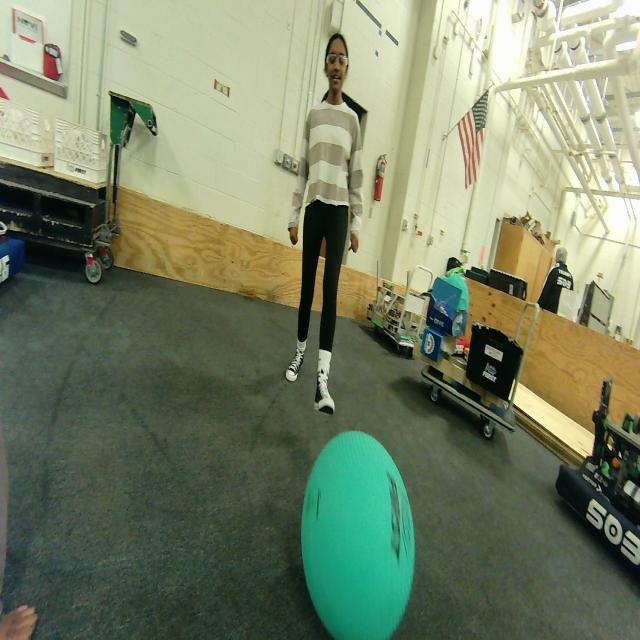algae: (297, 422, 417, 640)
